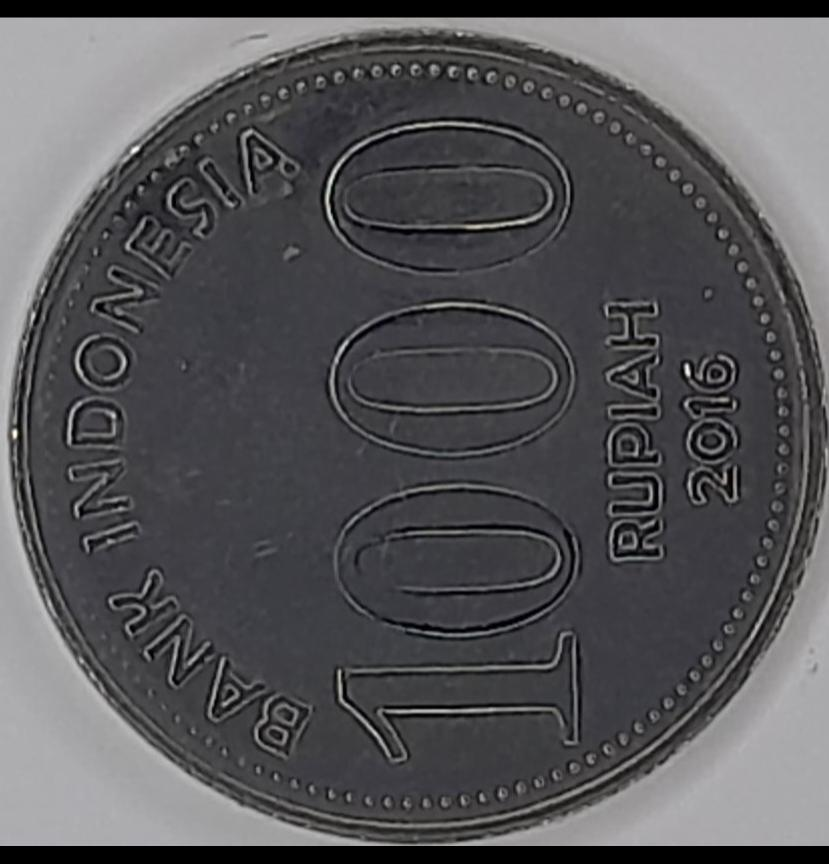coin_1000_e2016: (14, 17, 818, 864)
